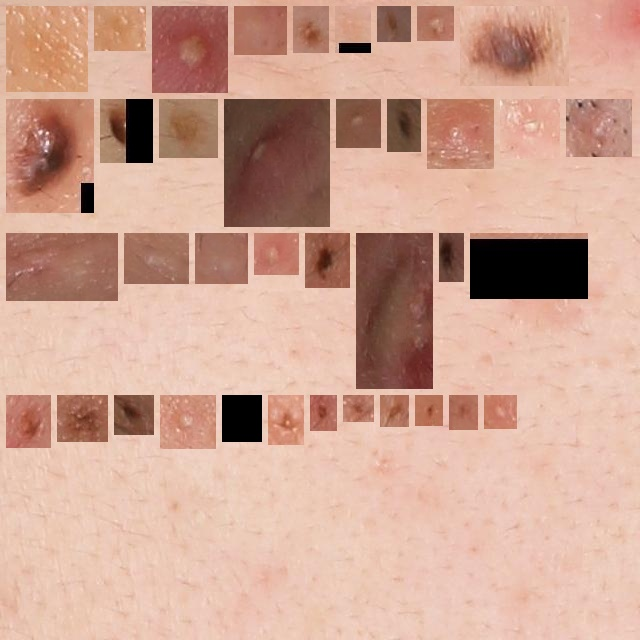hypertrophic_scar: (364, 241, 425, 381), (14, 241, 110, 293), (132, 241, 181, 276), (203, 241, 240, 276), (242, 14, 279, 47)
melasma: (478, 241, 580, 291), (14, 14, 80, 84), (167, 107, 210, 150), (102, 14, 138, 43), (343, 14, 363, 45)
nevus: (14, 107, 86, 205), (468, 14, 561, 78), (108, 107, 145, 155), (313, 241, 342, 280), (65, 403, 100, 434), (14, 403, 43, 440), (230, 403, 254, 434), (276, 403, 296, 437), (395, 107, 413, 144), (301, 14, 321, 45), (122, 403, 146, 427), (439, 241, 456, 274), (457, 403, 470, 422), (318, 403, 329, 423), (388, 403, 401, 419), (423, 403, 435, 418), (351, 403, 366, 414)
pustule: (232, 107, 322, 219), (160, 14, 220, 85), (435, 107, 486, 161), (574, 107, 624, 149), (508, 107, 552, 151), (168, 403, 208, 441), (344, 107, 373, 140), (262, 241, 291, 267), (425, 14, 446, 33), (492, 403, 509, 421)
